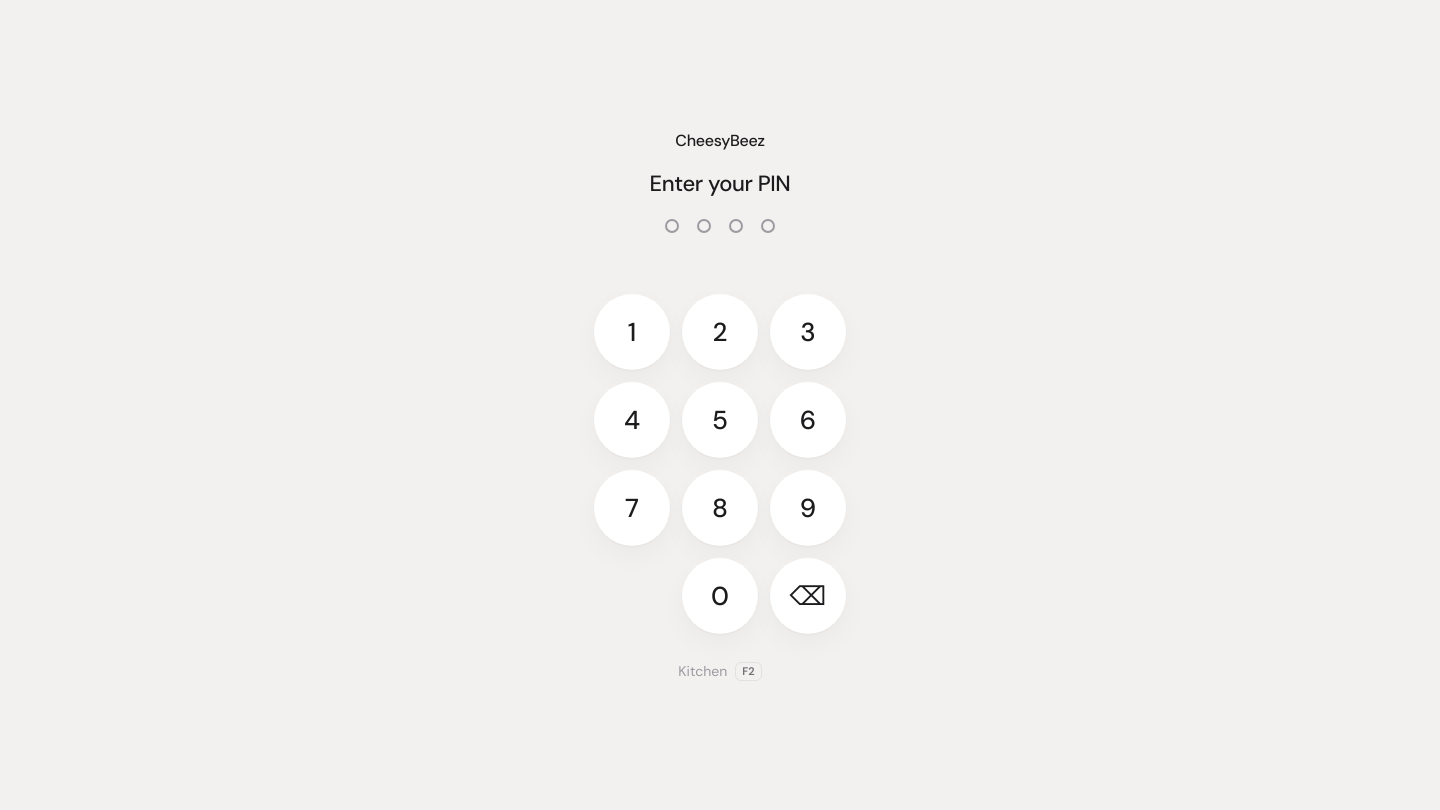
a paired counter opens locked; a wrong PIN says so; the right one opens the register; F4 locks
Type keys "9999"
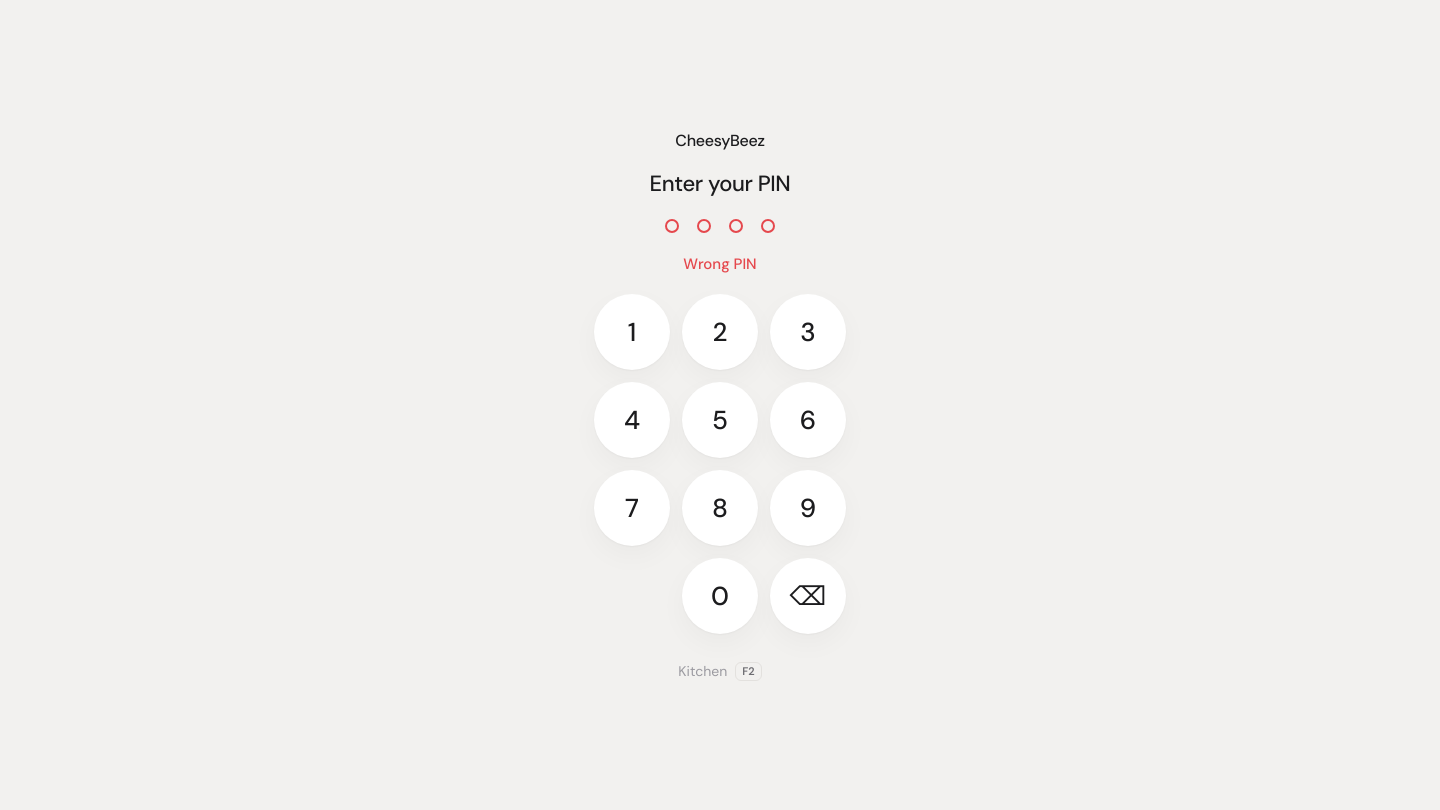
Result: the text "Wrong PIN" is shown at [683,254,757,276]
Click the button "1" at (632, 332), box [594,294,670,370]
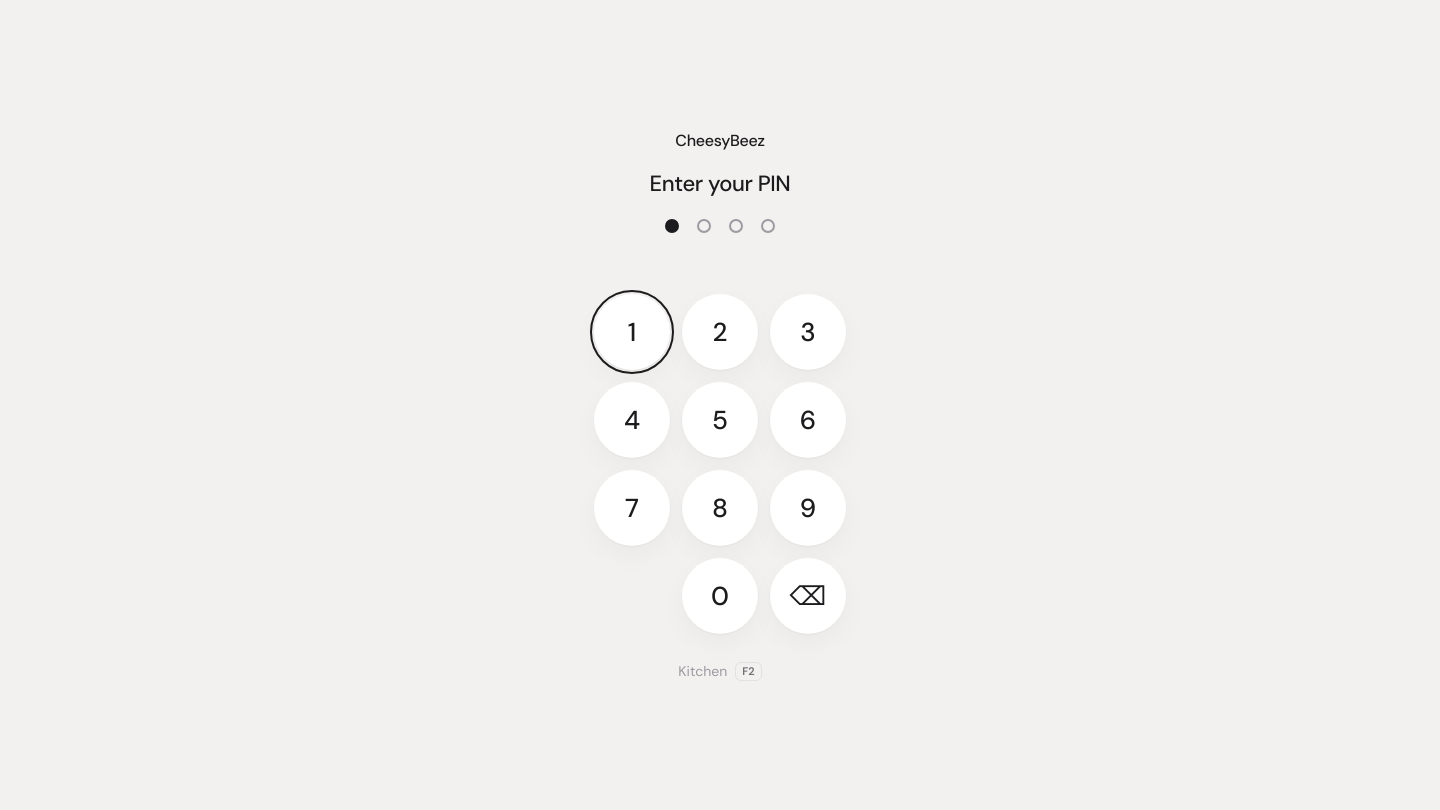
Click the button "1" at (632, 332), box [594,294,670,370]
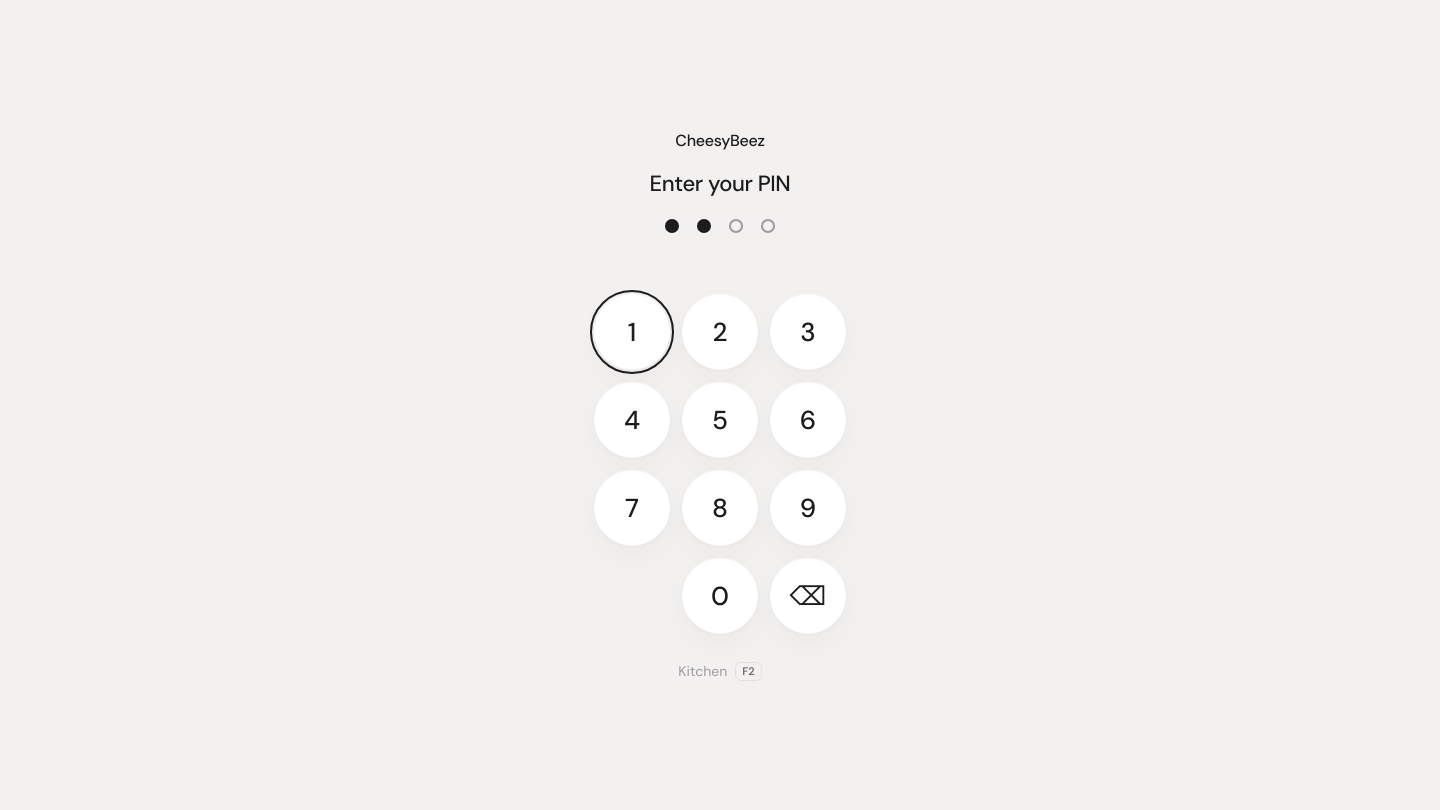
Click the button "1" at (632, 332), box [594,294,670,370]
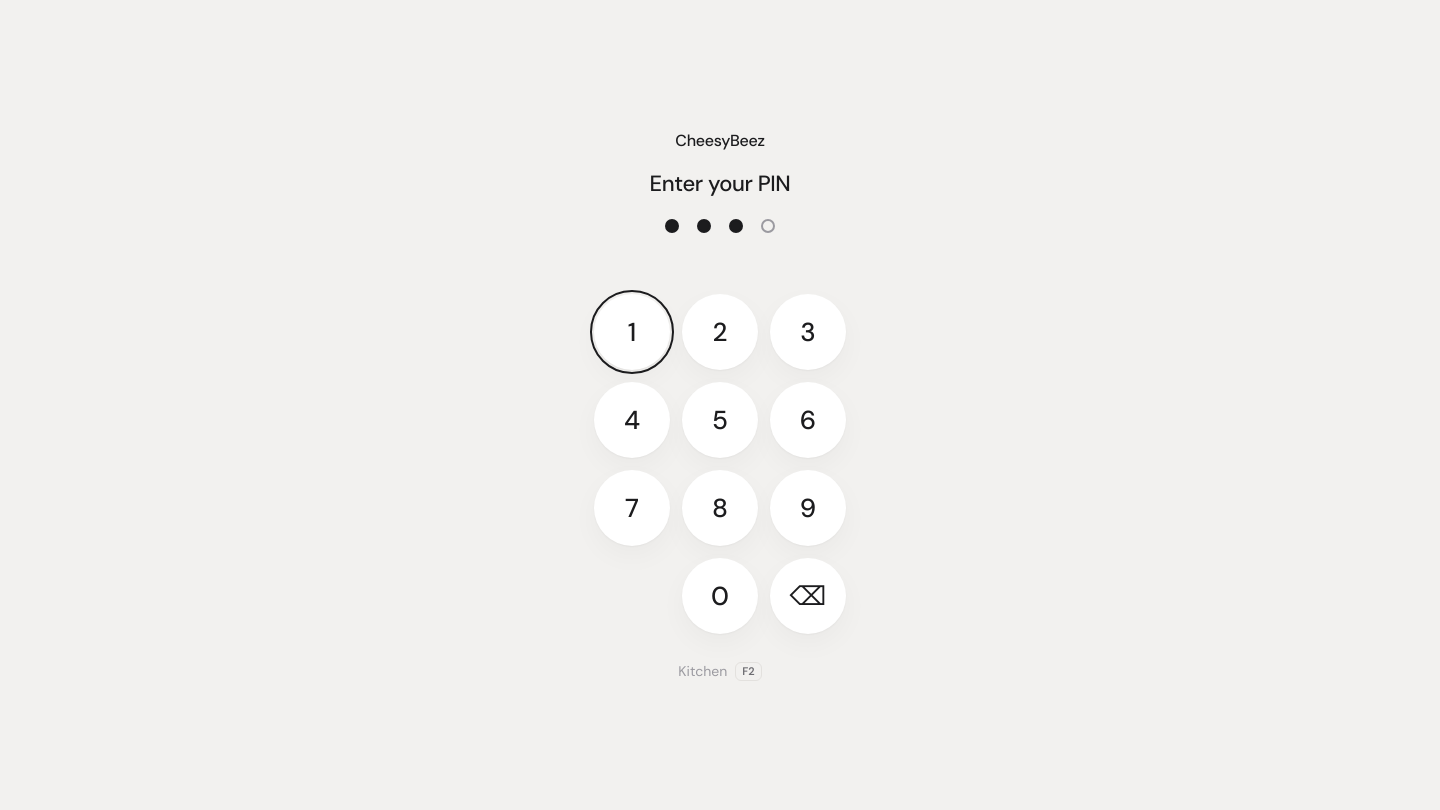
Click the button "1" at (632, 332), box [594,294,670,370]
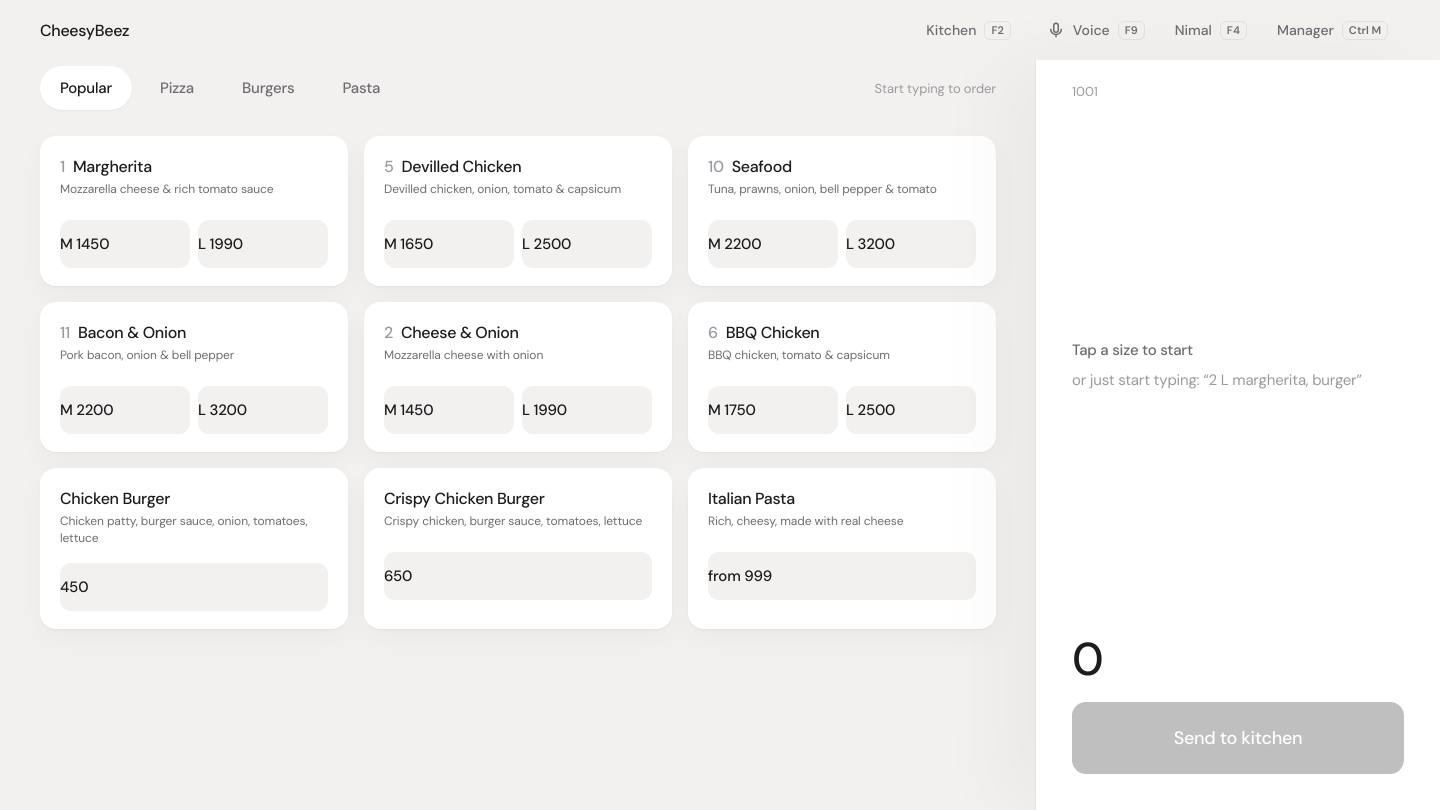
Result: the button with aria-label "Nimal: switch user" is shown at [1163,6,1259,54]
Press F4
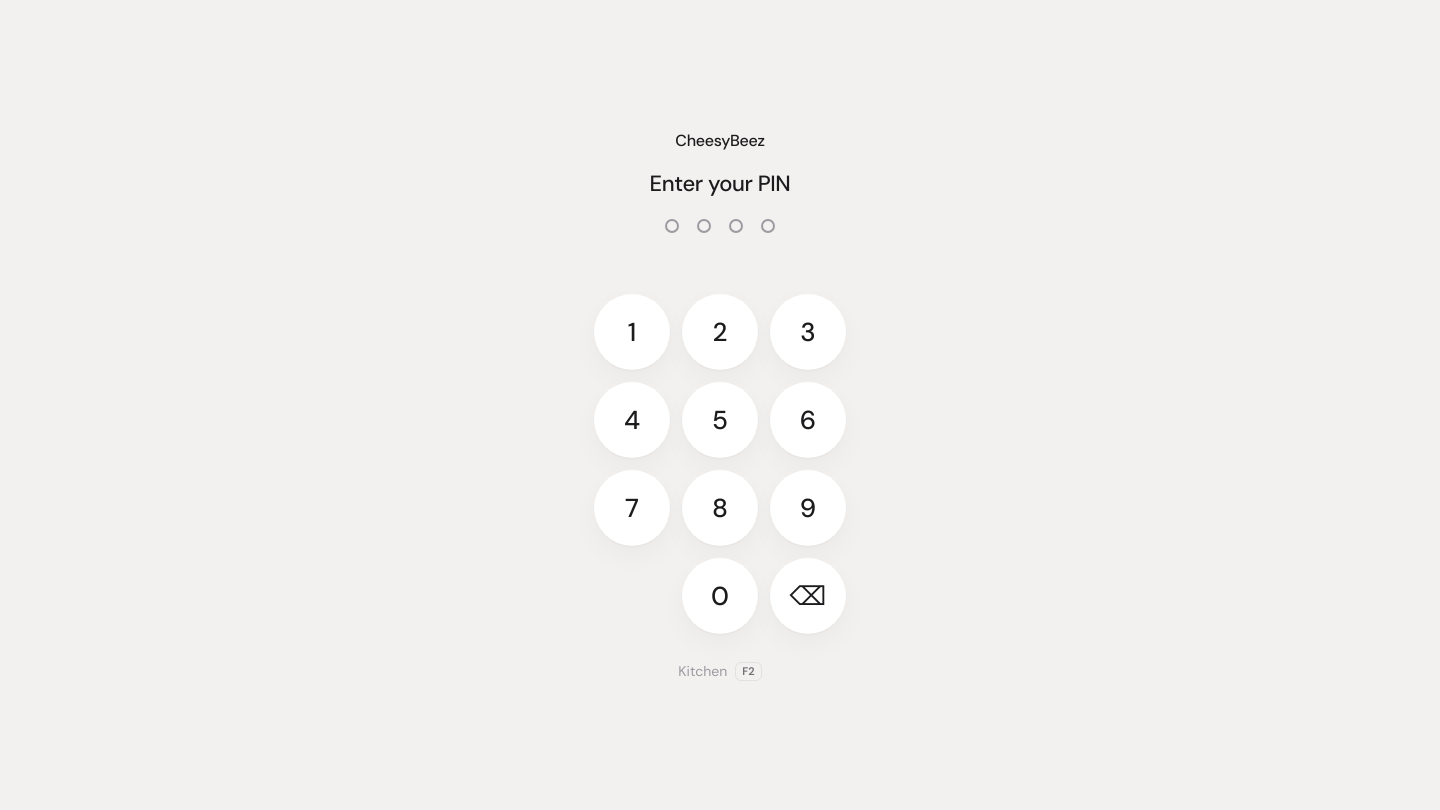
Result: the element named "Log in" is shown
